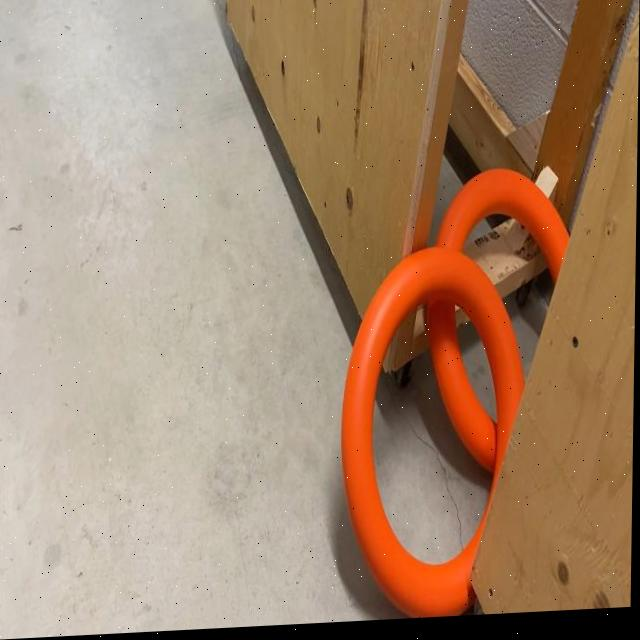note: (339, 244, 530, 626), (424, 170, 572, 483)
